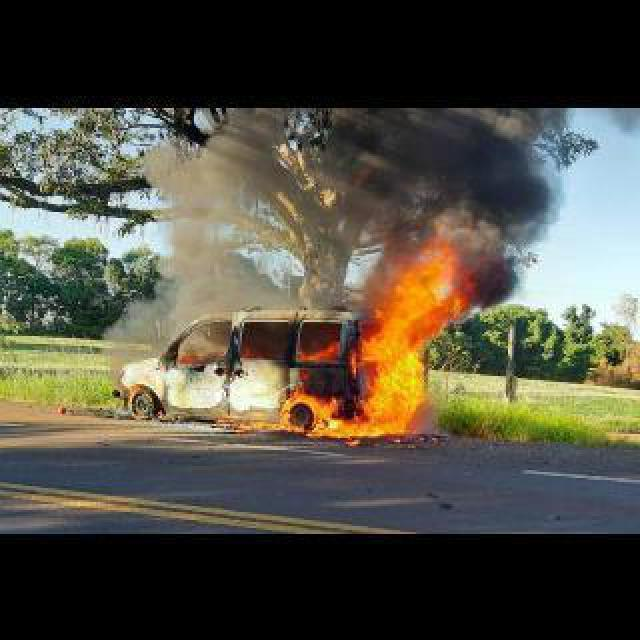Fire: (278, 236, 464, 438)
Smoke: (102, 106, 300, 368), (438, 106, 582, 304)
